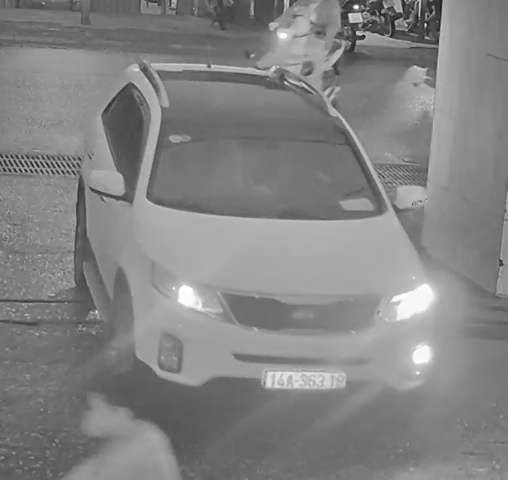vehicle plate: (255, 366, 351, 394)
